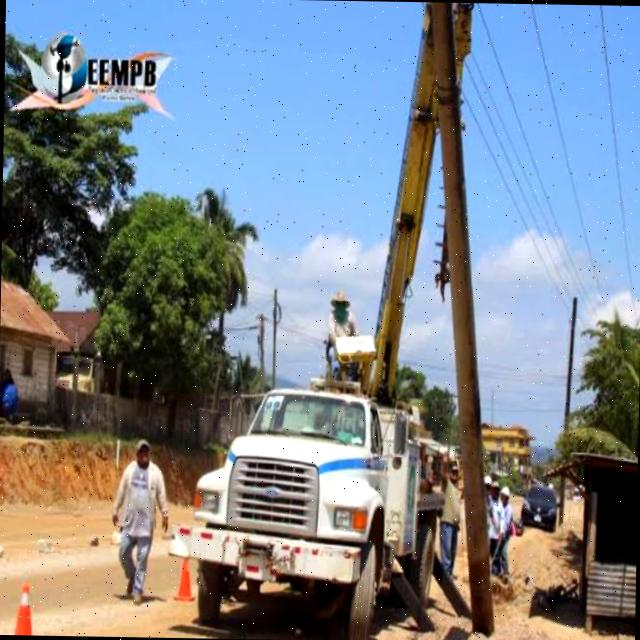Broken Pole: (416, 4, 516, 636)
